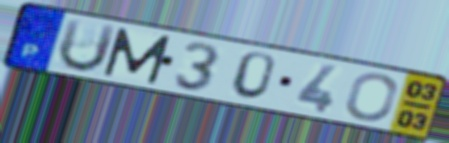0: (227, 51, 278, 102)
3: (171, 41, 224, 94)
4: (292, 63, 338, 116)
M: (100, 26, 174, 86)
O: (343, 72, 400, 123)
U: (55, 16, 120, 74)
